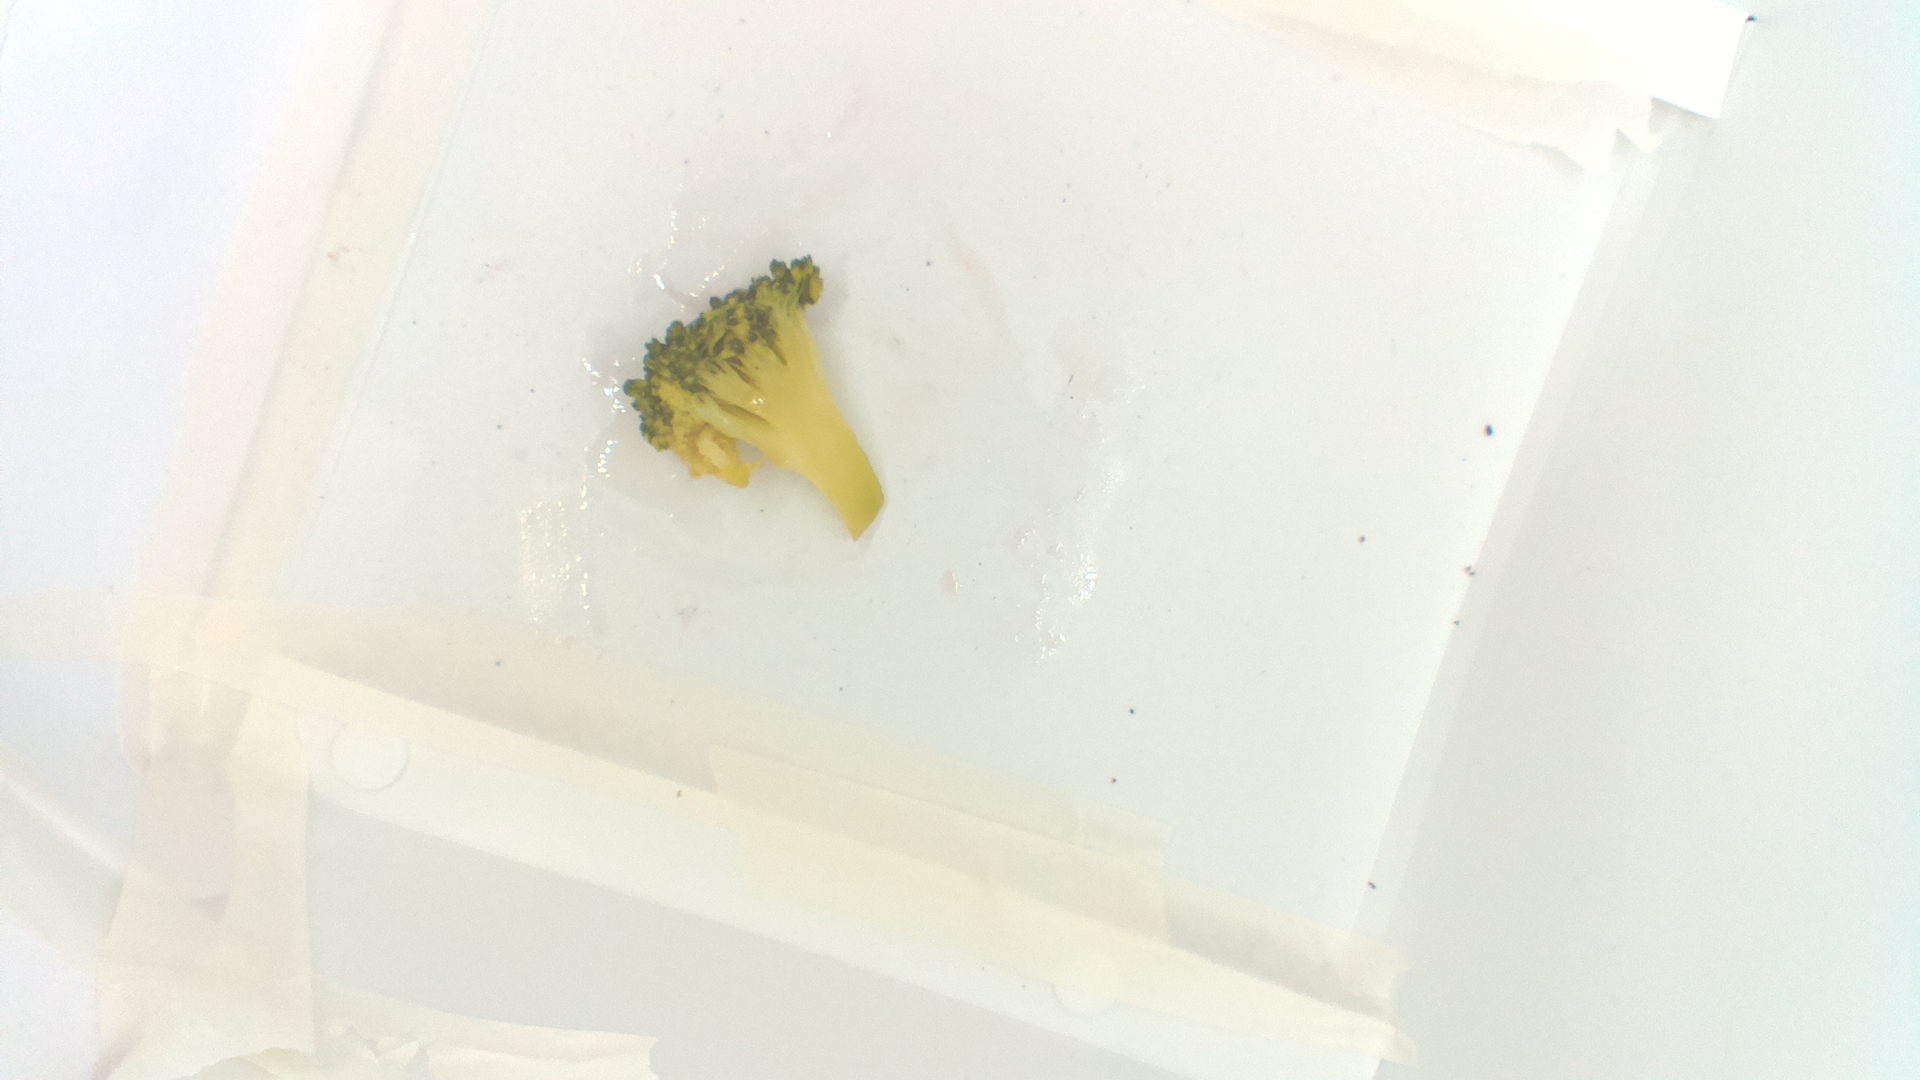vegetable: (618, 251, 899, 549)
